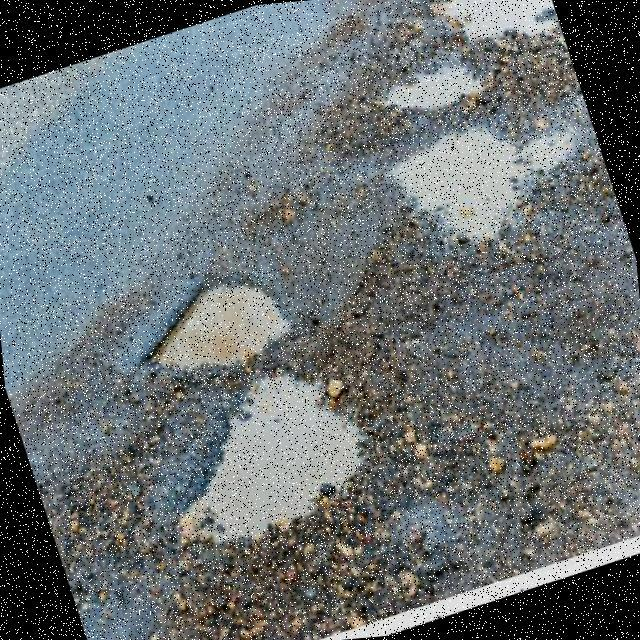Pothole: (185, 377, 361, 541), (394, 133, 555, 241), (153, 286, 287, 367), (435, 0, 555, 37), (387, 71, 481, 108)
